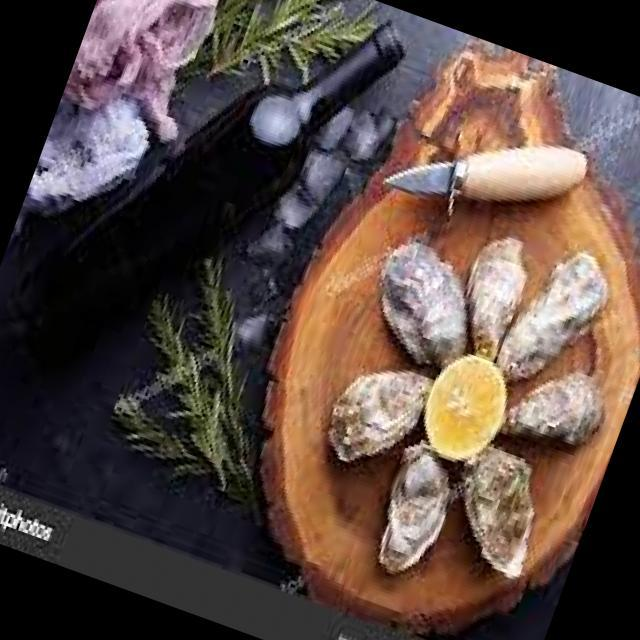Oyster- Indeterminate: (498, 252, 606, 380), (382, 242, 466, 367), (379, 441, 458, 573), (329, 371, 434, 462), (465, 448, 534, 578), (466, 238, 526, 361), (501, 372, 602, 444)
